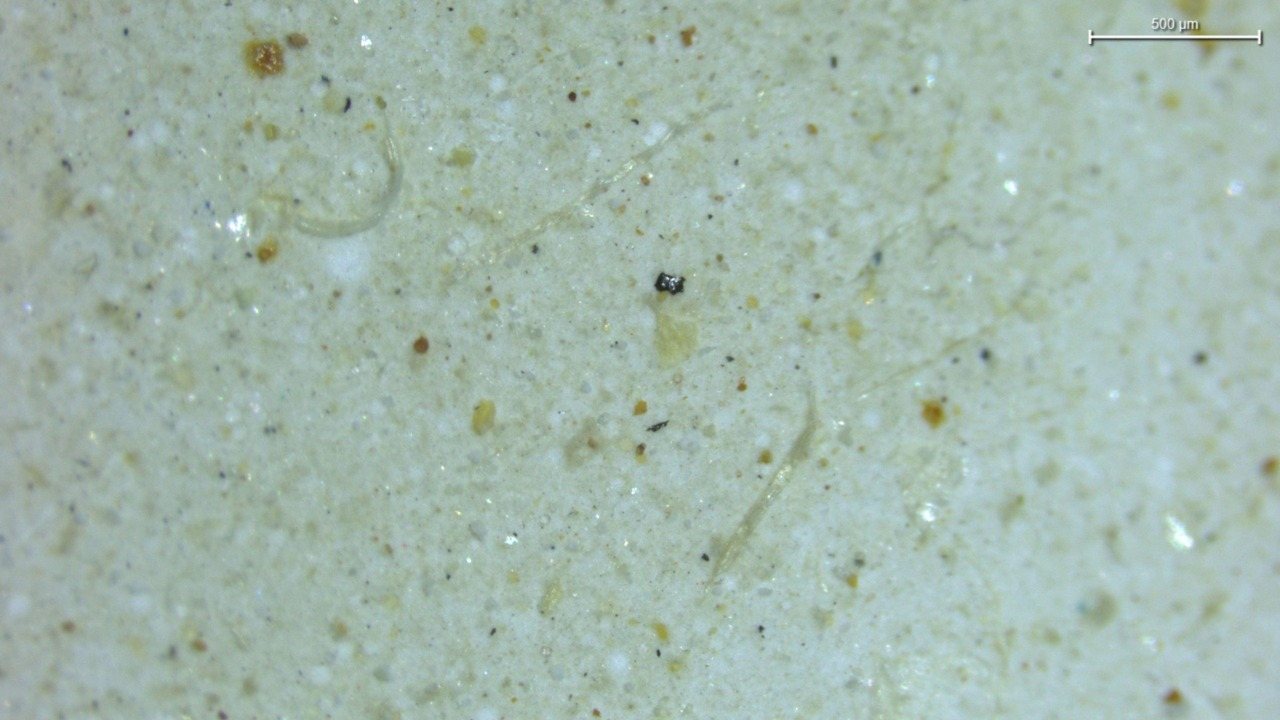microplastic_fragment: (654, 272, 685, 295)
